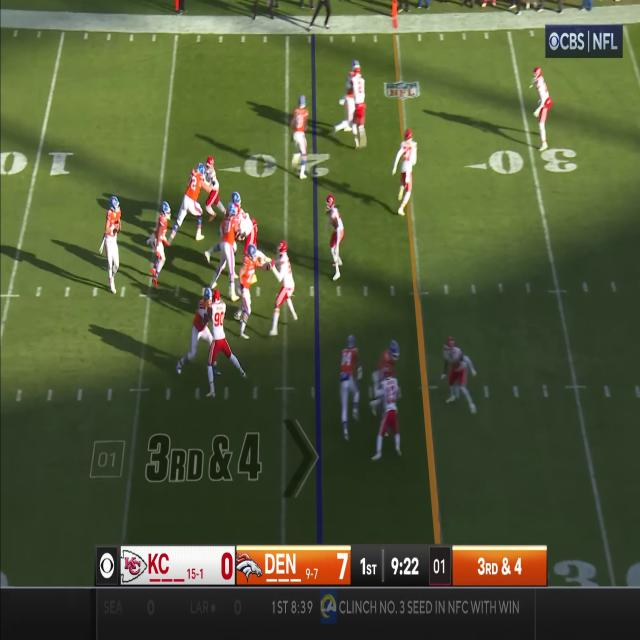Player: (373, 372, 402, 464), (214, 206, 240, 302), (271, 239, 296, 338), (529, 65, 553, 153), (102, 196, 123, 296), (149, 200, 172, 290), (180, 163, 206, 242), (394, 128, 417, 217), (443, 334, 470, 408), (190, 286, 212, 376), (210, 290, 228, 398), (341, 334, 359, 442), (324, 195, 346, 279), (288, 95, 309, 181), (239, 246, 257, 338), (353, 74, 368, 149), (205, 155, 220, 221), (237, 192, 255, 244), (376, 340, 399, 372)
